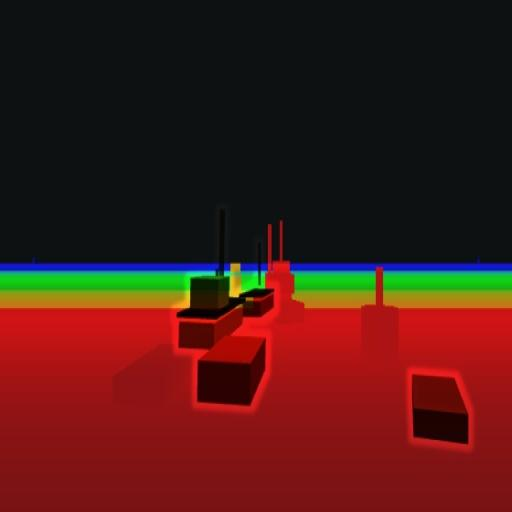vessel: (174, 200, 245, 351), (239, 252, 275, 320)
